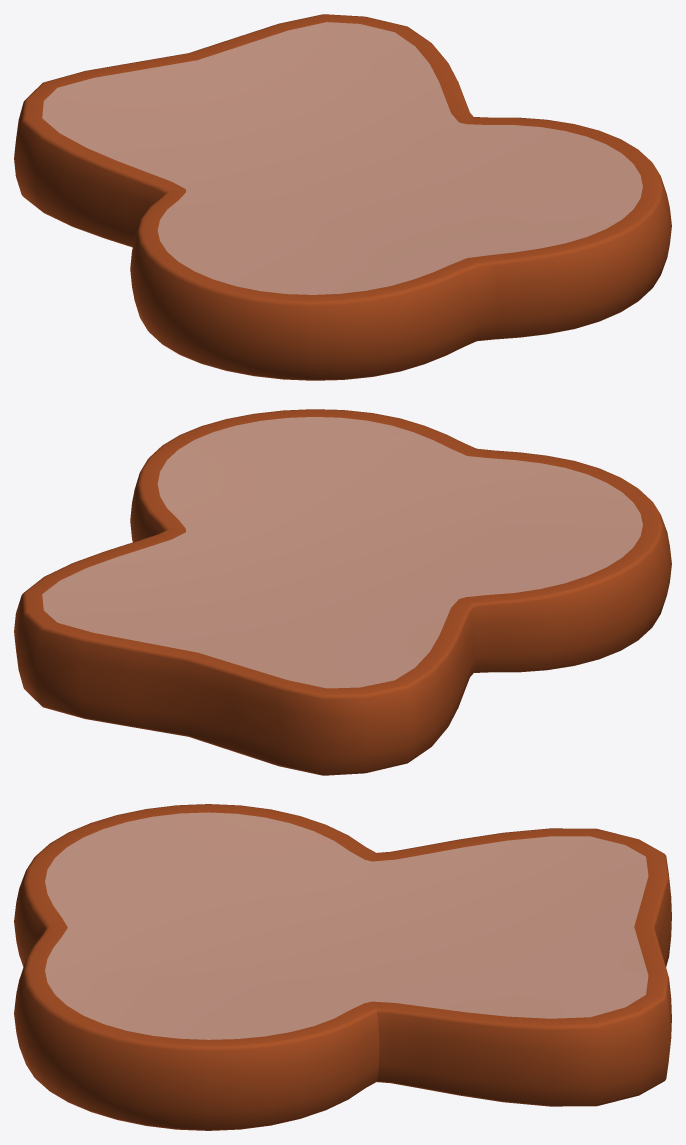
The model's file is Slice_Of_Bread.FBX.
3 views of the same model, one above another, from view 1: azimuth 30°, elevation 25°; view 2: azimuth 150°, elevation 25°; view 3: azimuth 270°, elevation 25° (orthographic). The views are drawn at different scales.
Visible parts, largest first — view 1: Cylinder129; view 2: Cylinder129; view 3: Cylinder129.
Part boxes in pixels (box(x1,y1,x2,y2)): Cylinder129: box(14, 14, 671, 380); Cylinder129: box(14, 409, 671, 775); Cylinder129: box(14, 804, 671, 1130).
Bounding box in the file's own units: 625 × 98.04 × 689.
